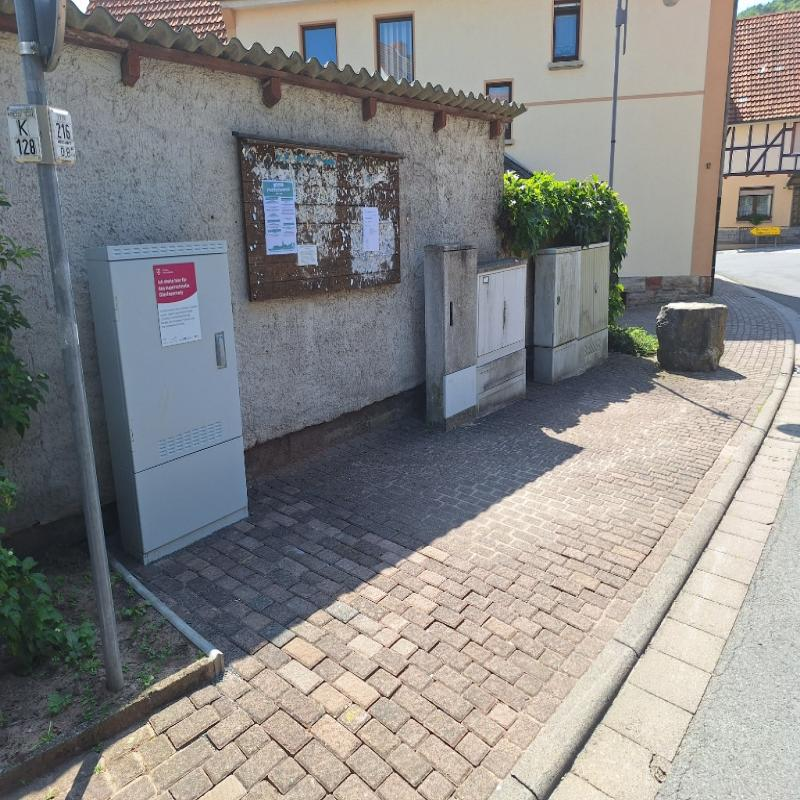NT-Gehause: (82, 235, 250, 567)
Steaker: (152, 260, 201, 348)
